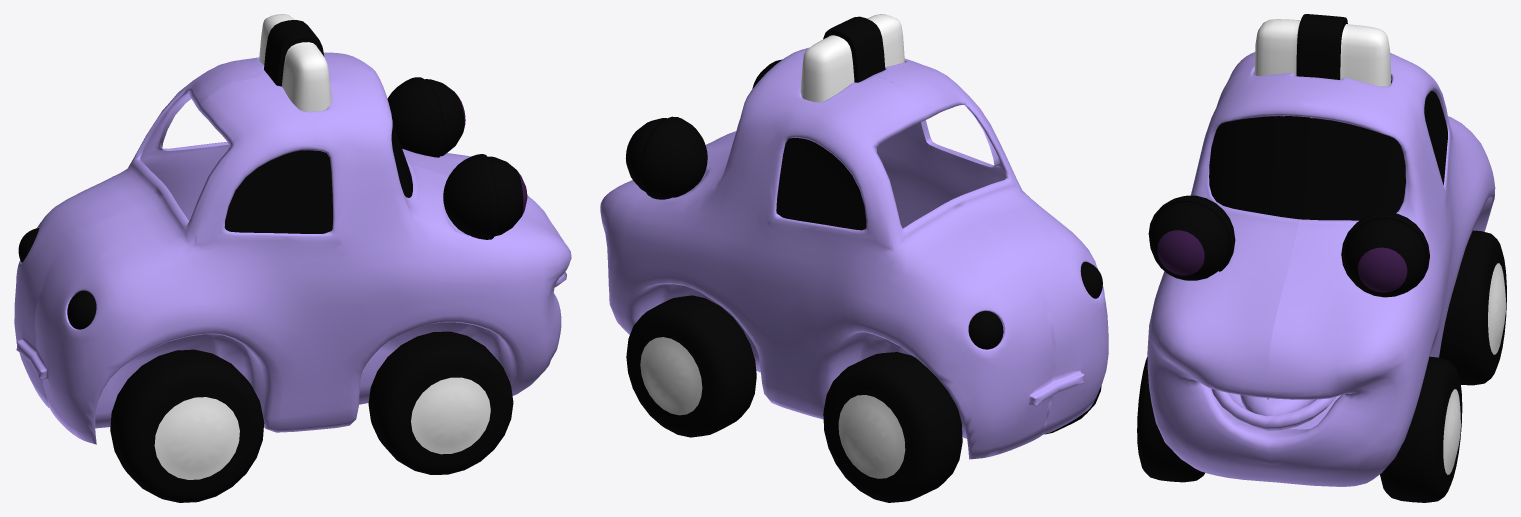
The model's file is ToyObject_065.fbx.
The picture shows the model from 3 angles, left to right: view 1: azimuth 30°, elevation 25°; view 2: azimuth 150°, elevation 25°; view 3: azimuth 270°, elevation 25°; orthographic projection. The views are drawn at different scales.
Parts seen in each view (by area): view 1: Object.065; view 2: Object.065; view 3: Object.065.
Boxes of the visible parts, x1,y1,x2,y2 form: Object.065: (14, 14, 571, 502); Object.065: (600, 14, 1108, 502); Object.065: (1137, 14, 1506, 502).
Size of the model in its own units: 0.1753 by 0.14 by 0.1121.
